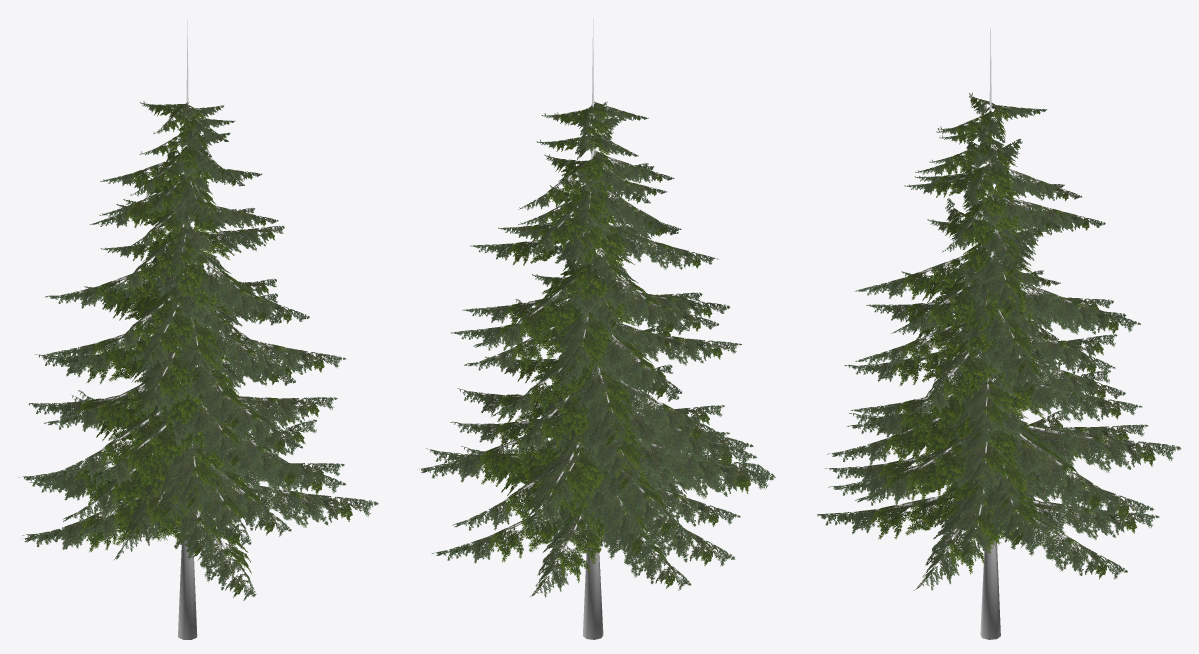
File: Tree2.011.fbx
The picture shows the model from 3 angles, left to right: view 1: azimuth 30°, elevation 25°; view 2: azimuth 150°, elevation 25°; view 3: azimuth 270°, elevation 25°; orthographic projection.
Parts seen in each view (by area): view 1: Tree2.011; view 2: Tree2.011; view 3: Tree2.011.
Boxes of the visible parts, bbox=[...] form: Tree2.011: bbox=[18, 19, 378, 639]; Tree2.011: bbox=[419, 19, 775, 639]; Tree2.011: bbox=[817, 28, 1181, 639].
Size of the model in its own units: 2.18 by 4.08 by 2.25.
